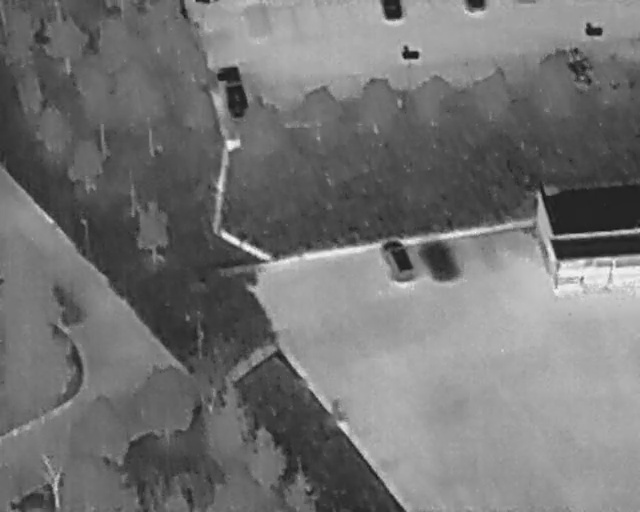Car: (376, 233, 420, 288), (214, 62, 254, 122), (378, 0, 405, 22), (461, 0, 489, 16)
